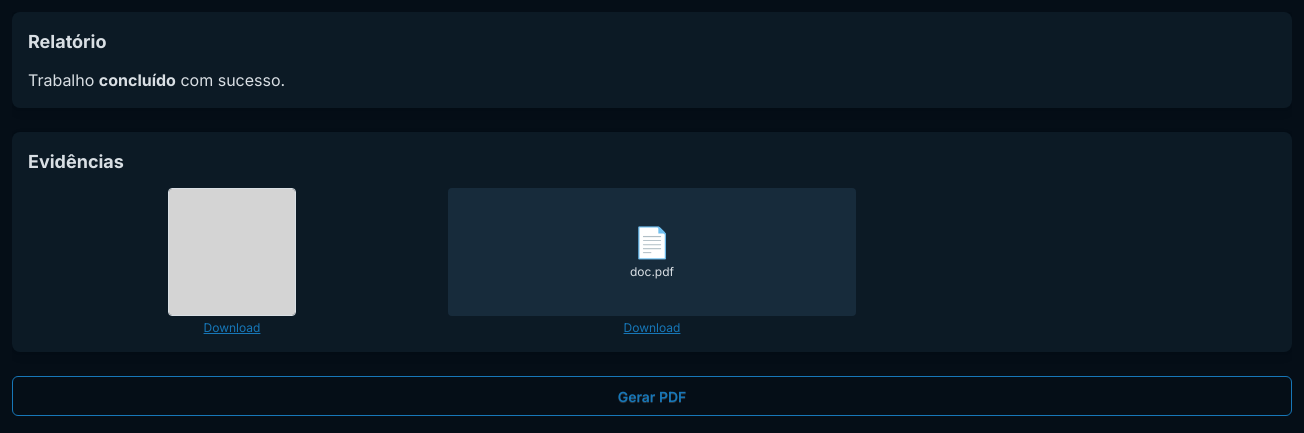
it: JobReportView › mostra itens do checklist no step
Click the button "Gerar PDF" at {"x": 652, "y": 396}, box [12,376,1292,416]
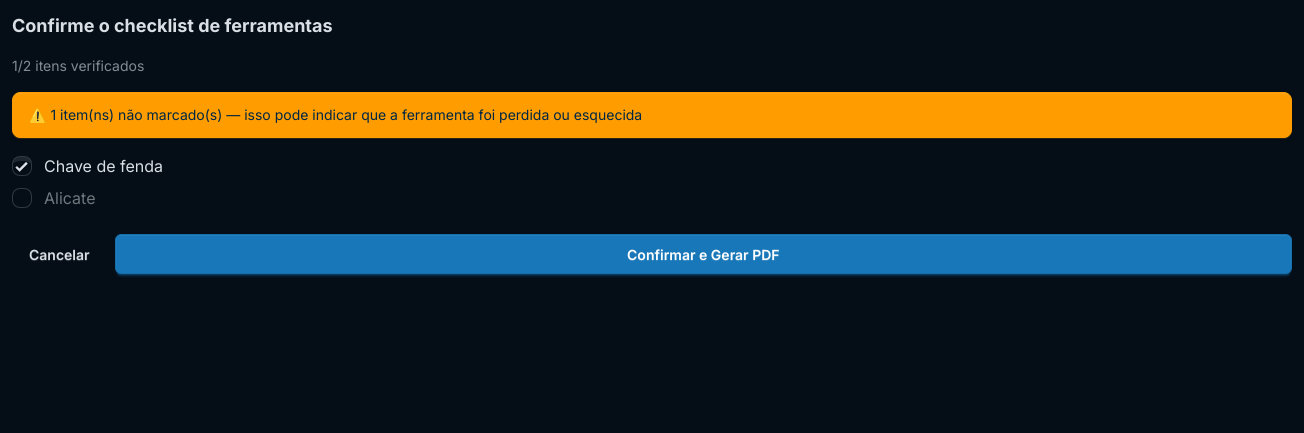
Expected: the text "Chave de fenda" is shown, [44,154,163,178]
Expected: the text "Alicate" is shown, [44,186,96,210]
Expected: the text "1/2 itens verificados" is shown, [12,57,144,74]
